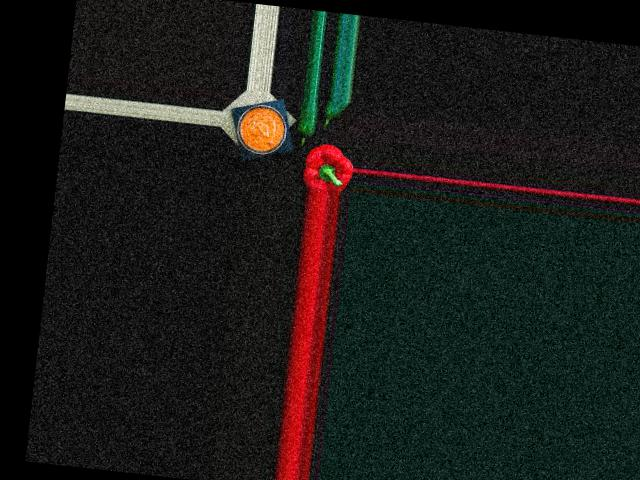bell_pepper: (301, 143, 354, 192)
